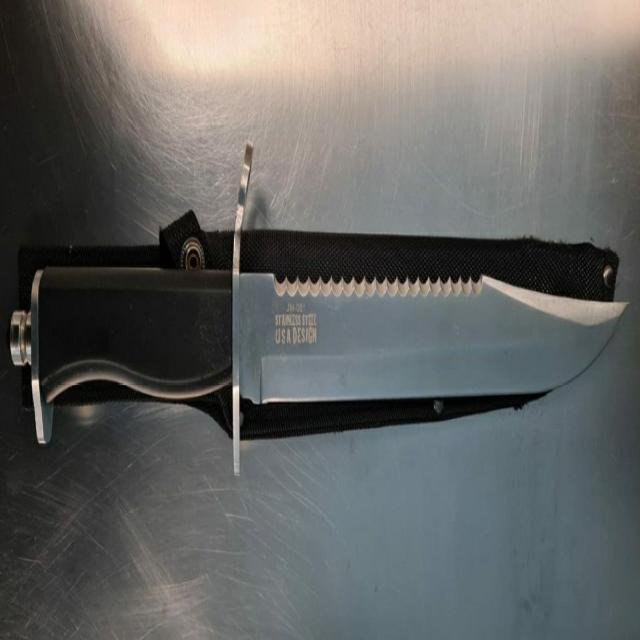Sharp-Object: (8, 144, 632, 480)
